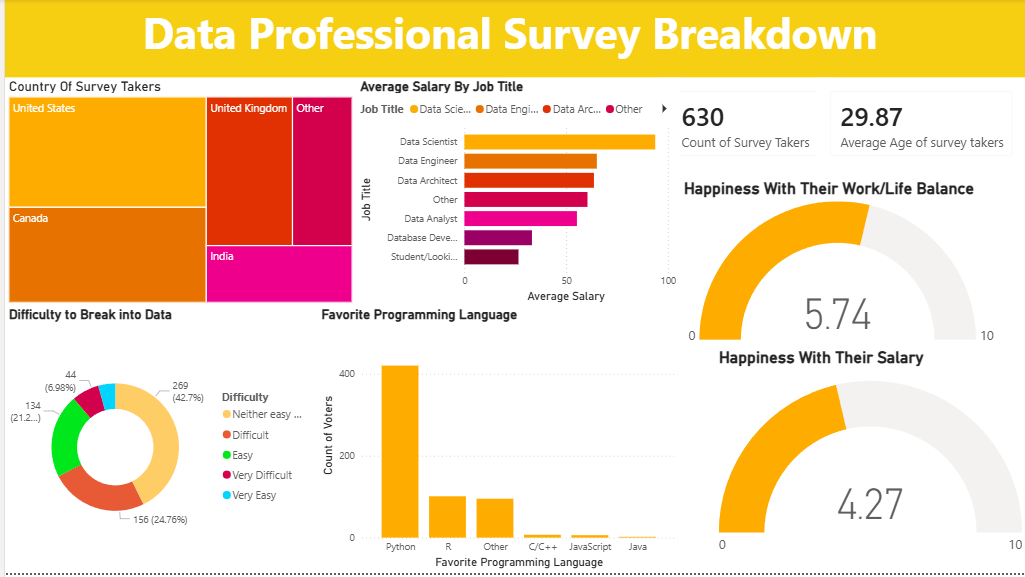

Layout of this report page (visuals, bound fields, positions):
{"tool":"powerbi","page":{"name":"Page 1","canvas":[1280,720],"ordinal":0},"visuals":[{"type":"textbox","box":[0,0,1280.3,98.7],"z":0},{"type":"cardVisual","fields":{"Data":["CountNonNull(Data Professional Survey.Unique ID)"]},"box":[818,98.7,224.1,116],"z":1000},{"type":"cardVisual","fields":{"Data":["Avg(Data Professional Survey.Q10 - Current Age)"]},"box":[1017,98.7,263.3,116],"z":2000},{"type":"barChart","title":"Average Salary By Job Title","fields":{"Category":["Data Professional Survey.Q1 - Which Title Best Fits your Current Role?.1"],"Y":["Avg(Data Professional Survey.Average Salary)"],"Series":["Data Professional Survey.Q1 - Which Title Best Fits your Current Role?.1"]},"box":[440.4,98.7,405.9,286.8],"z":3000},{"type":"columnChart","title":"Favorite Programming Language","fields":{"Category":["Data Professional Survey.Q5 - Favorite Programming Language.1"],"Y":["CountNonNull(Data Professional Survey.Unique ID)"]},"box":[391.8,385.5,454.5,333.8],"z":4000},{"type":"gauge","title":"Happiness With Their Work/Life Balance","fields":{"Y":["Avg(Data Professional Survey.Q6 - How Happy are you in your Current Position with the following? (Work/Life Balance))"],"MinValue":["Min(Data Professional Survey.Q6 - How Happy are you in your Current Position with the following? (Work/Life Balance))"],"MaxValue":["Max(Data Professional Survey.Q6 - How Happy are you in your Current Position with the following? (Work/Life Balance))"]},"box":[846.2,225.7,404.3,211.6],"z":5000},{"type":"gauge","title":"Happiness With Their Salary","fields":{"Y":["Avg(Data Professional Survey.Q6 - How Happy are you in your Current Position with the following? (Salary))"],"MinValue":["Min(Data Professional Survey.Q6 - How Happy are you in your Current Position with the following? (Salary))"],"MaxValue":["Max(Data Professional Survey.Q6 - How Happy are you in your Current Position with the following? (Salary))"]},"box":[890.1,437.2,390.2,282.1],"z":6000},{"type":"donutChart","title":"Difficulty to Break into Data","fields":{"Category":["Data Professional Survey.Q7 - How difficult was it for you to break into Data?"],"Y":["CountNonNull(Data Professional Survey.Unique ID)"]},"box":[0,385.5,391.8,333.8],"z":7000},{"type":"treemap","title":"Country Of Survey Takers","fields":{"Group":["Data Professional Survey.Q11 - Which Country do you live in?.1"],"Values":["Avg(Data Professional Survey.Average Salary)"]},"box":[0,98.7,440.4,286.8],"z":8000}]}

Visuals, with their boxes in screenshot pixels (x1, y1, x2, y2), scaled from the page's 1280x720 canvas onto the 1025x577 screenshot:
textbox: detection(0, 0, 1024, 79)
cardVisual - CountNonNull(Data Professional Survey.Unique ID): detection(655, 79, 834, 172)
cardVisual - Avg(Data Professional Survey.Q10 - Current Age): detection(814, 79, 1024, 172)
"Average Salary By Job Title" barChart: detection(353, 79, 678, 309)
"Favorite Programming Language" columnChart: detection(314, 309, 678, 576)
"Happiness With Their Work/Life Balance" gauge: detection(678, 181, 1001, 350)
"Happiness With Their Salary" gauge: detection(713, 350, 1024, 576)
"Difficulty to Break into Data" donutChart: detection(0, 309, 314, 576)
"Country Of Survey Takers" treemap: detection(0, 79, 353, 309)
